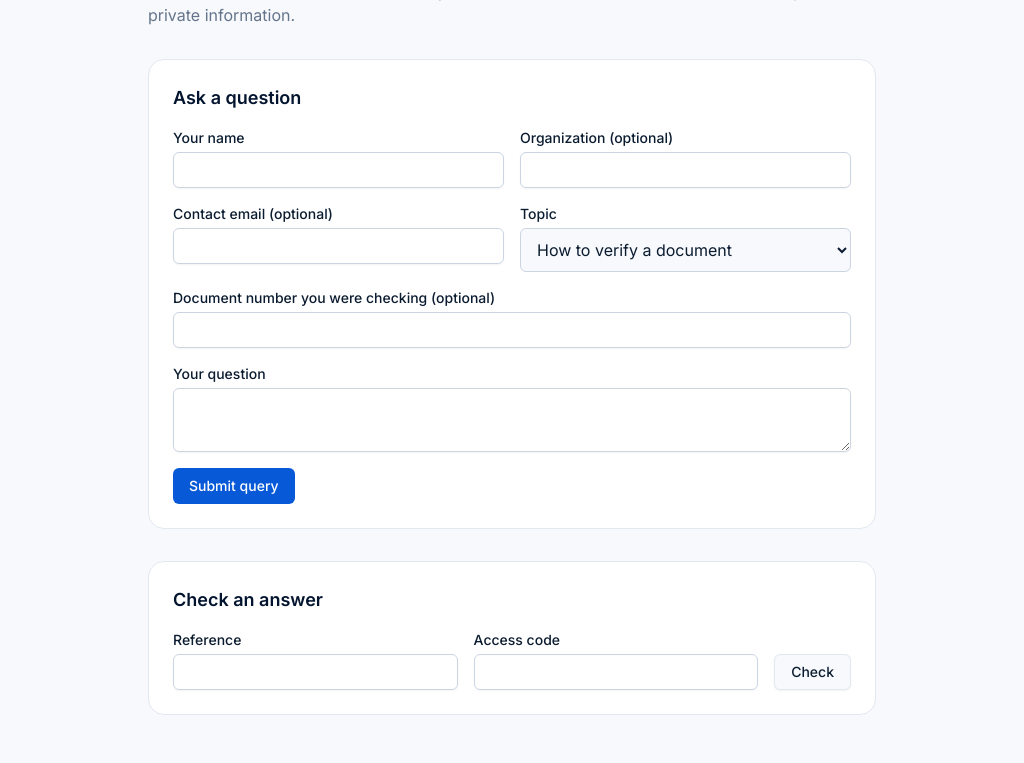
public verification support › gives one safe message for an unknown reference or wrong code
The width and height of the screenshot is (1024, 763).
(page scrolled)
Type "VQ-00000000" into the field labelled "Reference" at (315, 672), box [173,654,458,690]
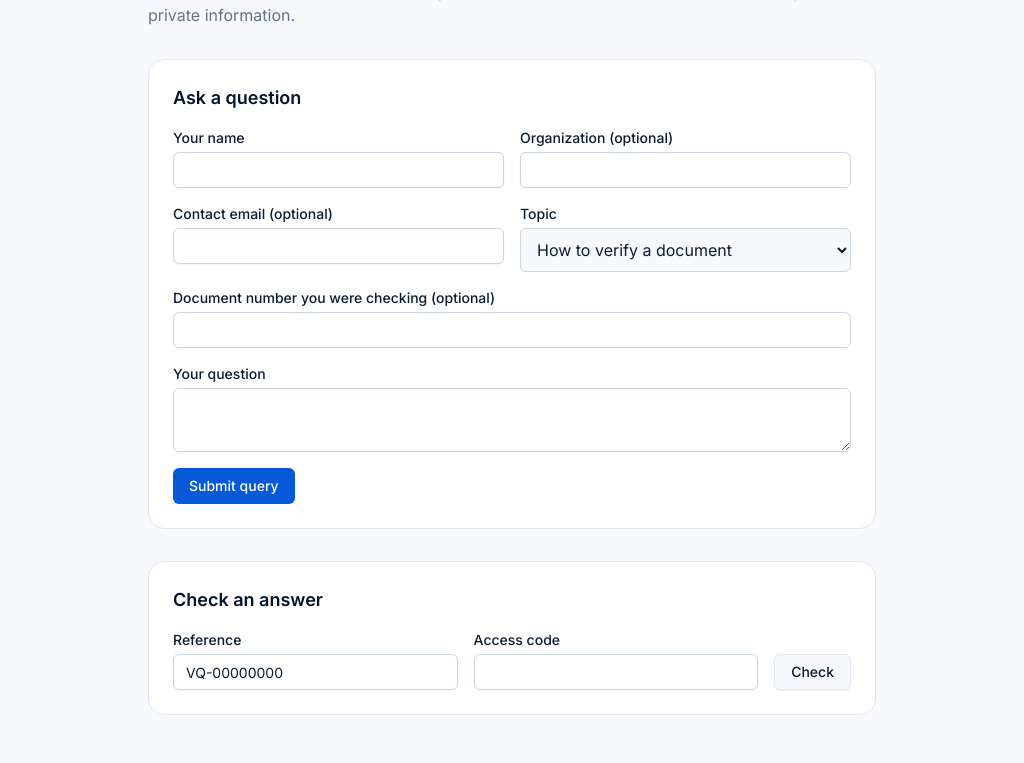
Type "WRONG" into the field labelled "Access code" at (616, 672), box [474,654,758,690]
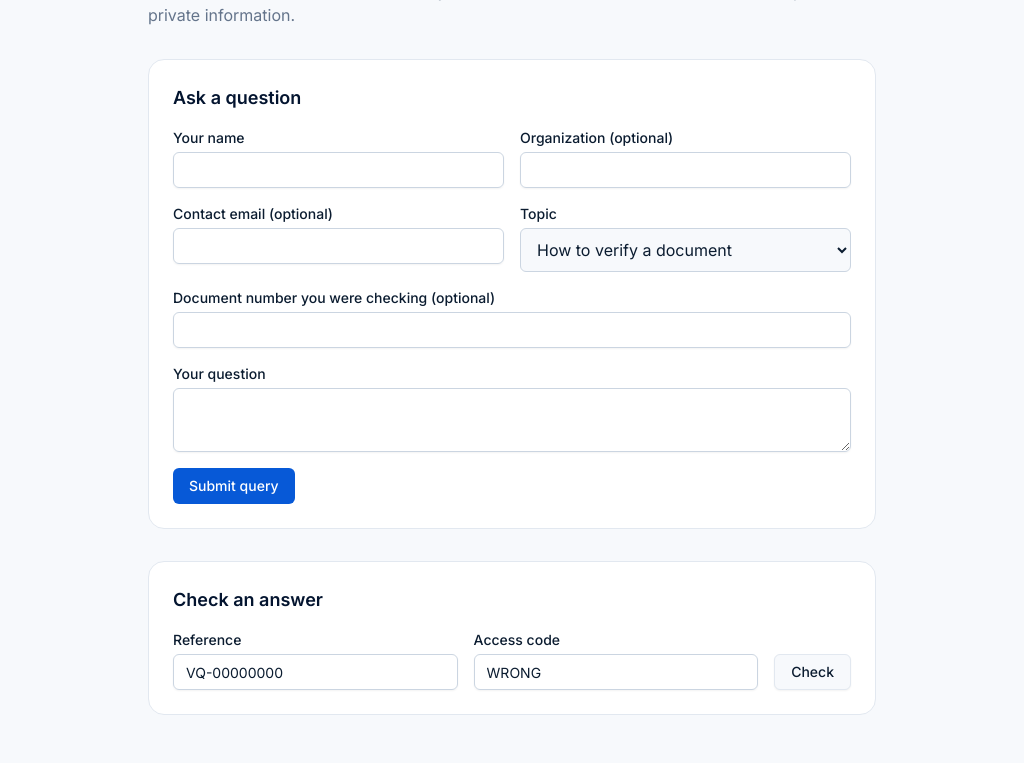
Click the button "Check" at (813, 672), box [774,654,851,690]
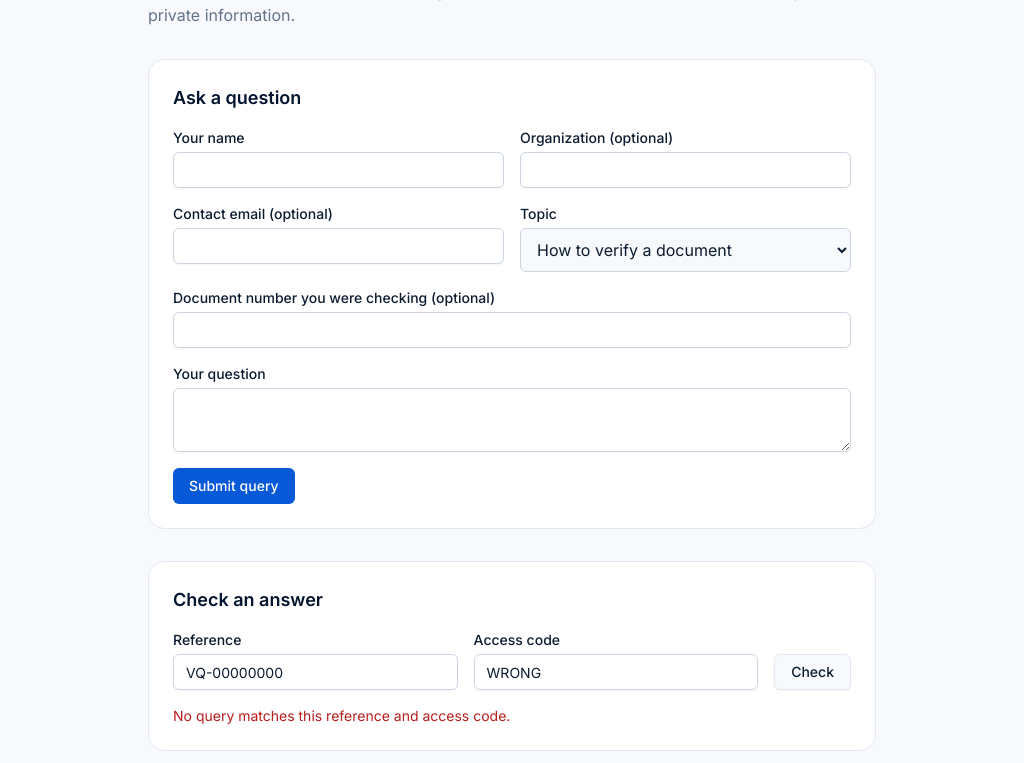
Expected: the message does not show "PRIVATE DETAIL", [173,707,510,724]
Result: the message reads "No query matches this reference and access code." at [173,707,510,724]
